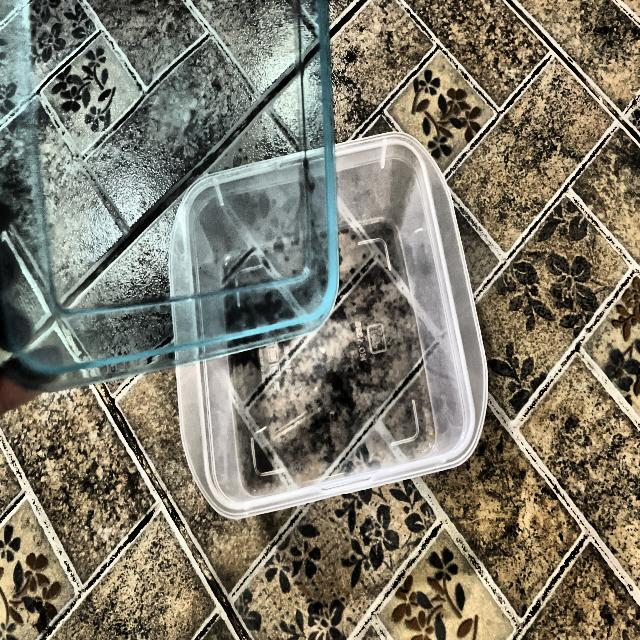plastic container: (130, 127, 492, 513)
